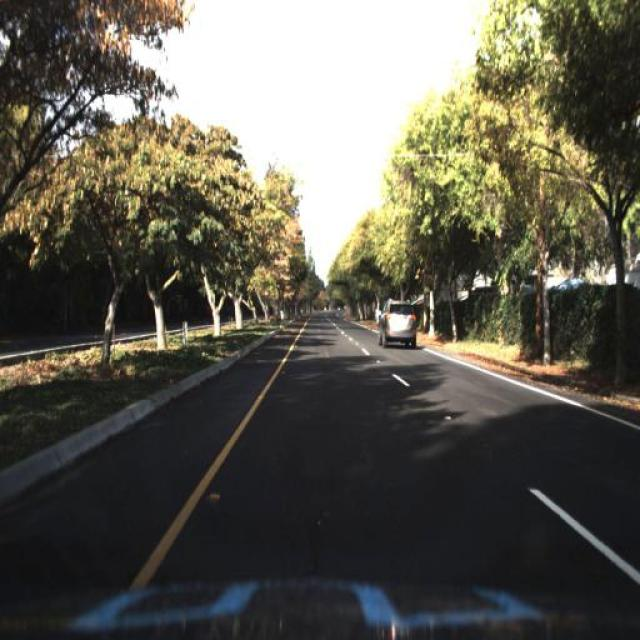car: (376, 298, 416, 347)
